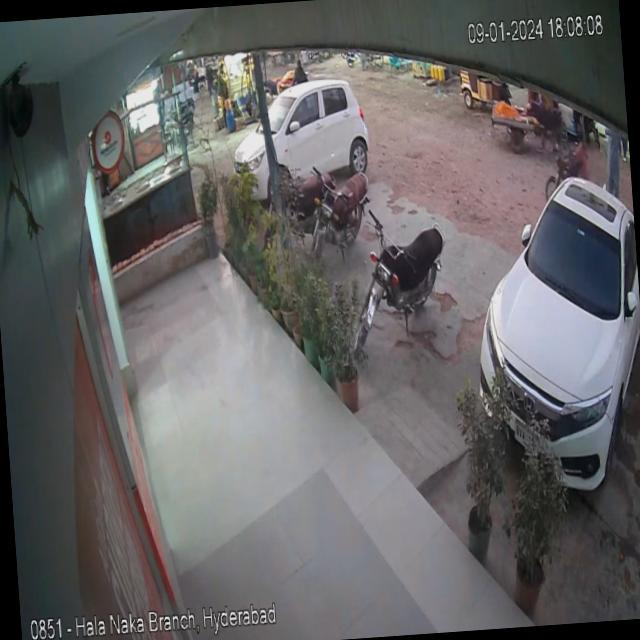Car: (460, 128, 640, 509), (207, 64, 374, 192)
Motorcycle: (342, 192, 460, 358), (308, 160, 378, 254)
